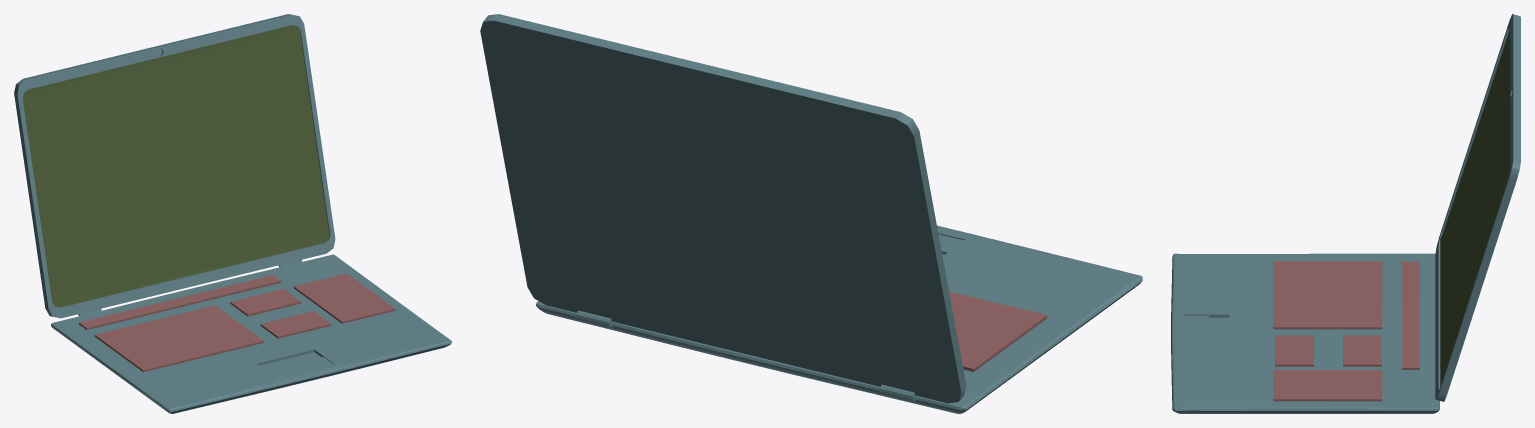
Rendered from Laptop.fbx.
3 renders of one model, left to right at view 1: azimuth 30°, elevation 25°; view 2: azimuth 150°, elevation 25°; view 3: azimuth 270°, elevation 25°, orthographic. The views are drawn at different scales.
Parts seen in each view (by area): view 1: Laptop; view 2: Laptop; view 3: Laptop.
Part boxes in pixels (bbox=[...]): Laptop: bbox=[14, 14, 451, 413]; Laptop: bbox=[480, 14, 1142, 413]; Laptop: bbox=[1171, 14, 1520, 413].
Size of the model in its own units: 122 by 91.34 by 115.
